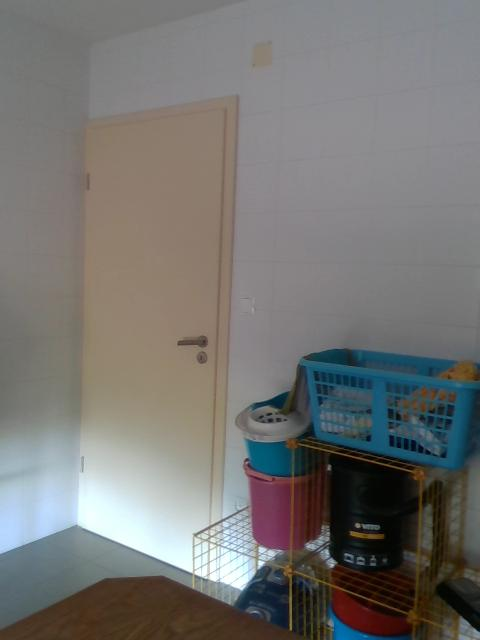door: (81, 104, 224, 581)
